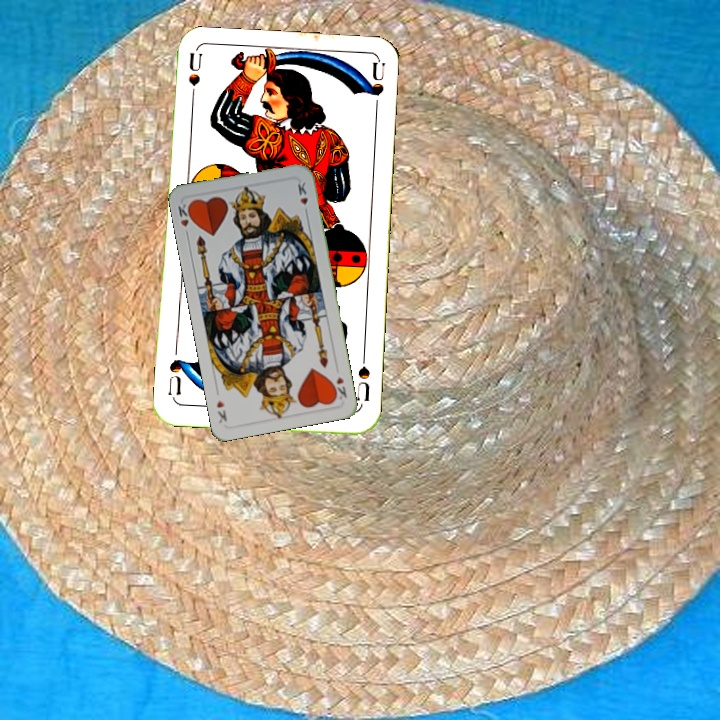HK: (174, 198, 196, 240), (328, 372, 349, 402)
SU: (352, 350, 373, 409), (184, 51, 204, 110)
